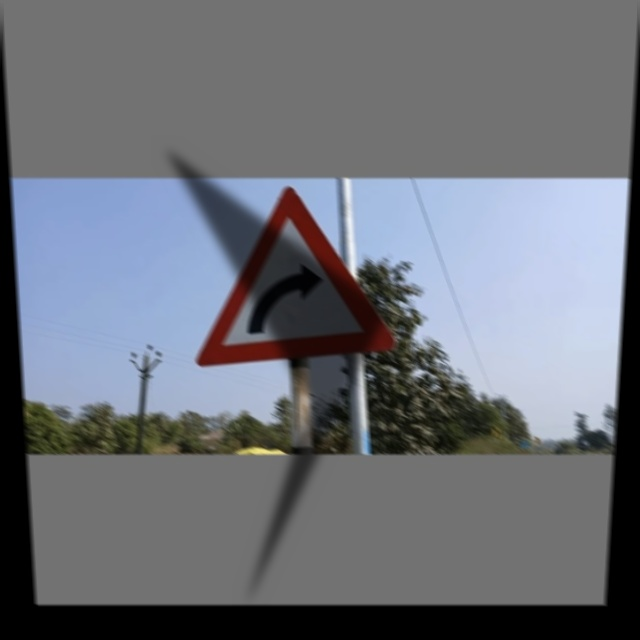Right_Hand_Curve: (200, 184, 393, 368)
